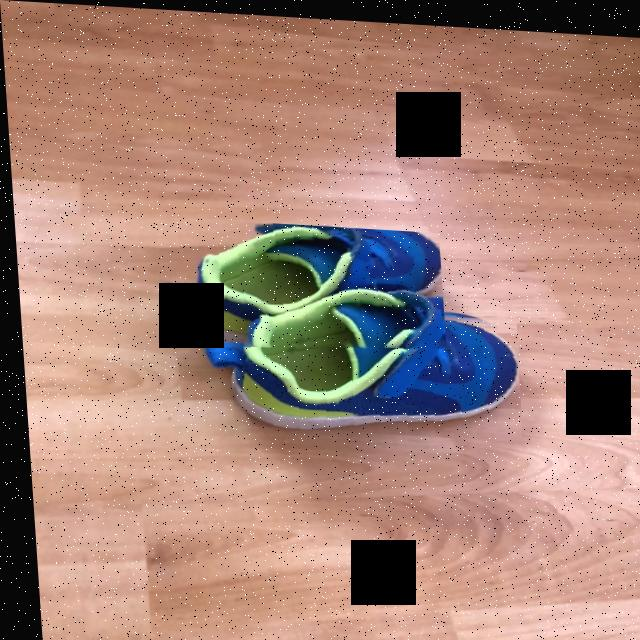shoe: (226, 301, 515, 427), (172, 221, 438, 345)
